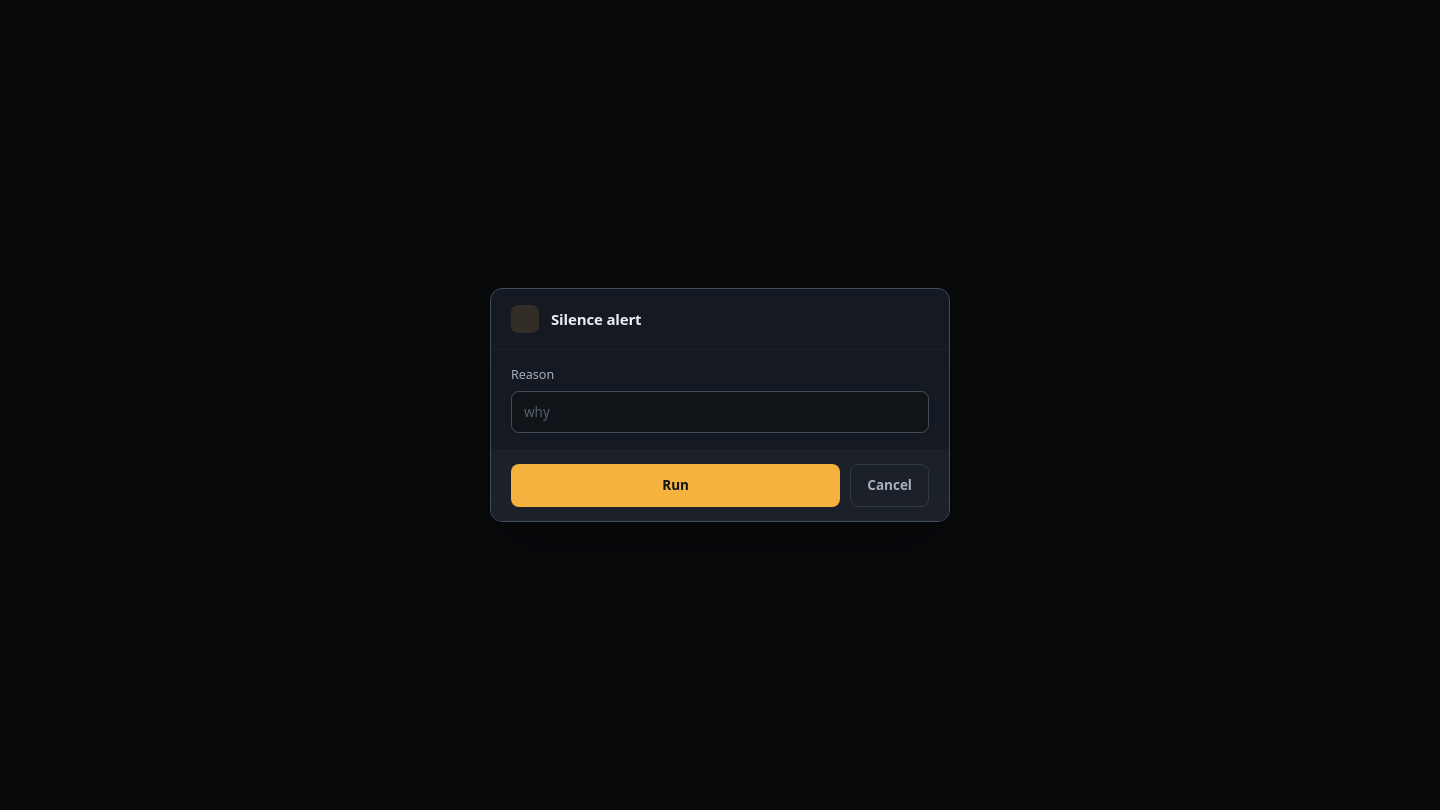
Test: ActionInputsDialog › keeps the dialog open and names the missing required input
What coordinates should you click on to do the following:
click the button with test id "action-inputs-submit"
I would click on:
 (676, 486)
Its box is [511,464,840,507].
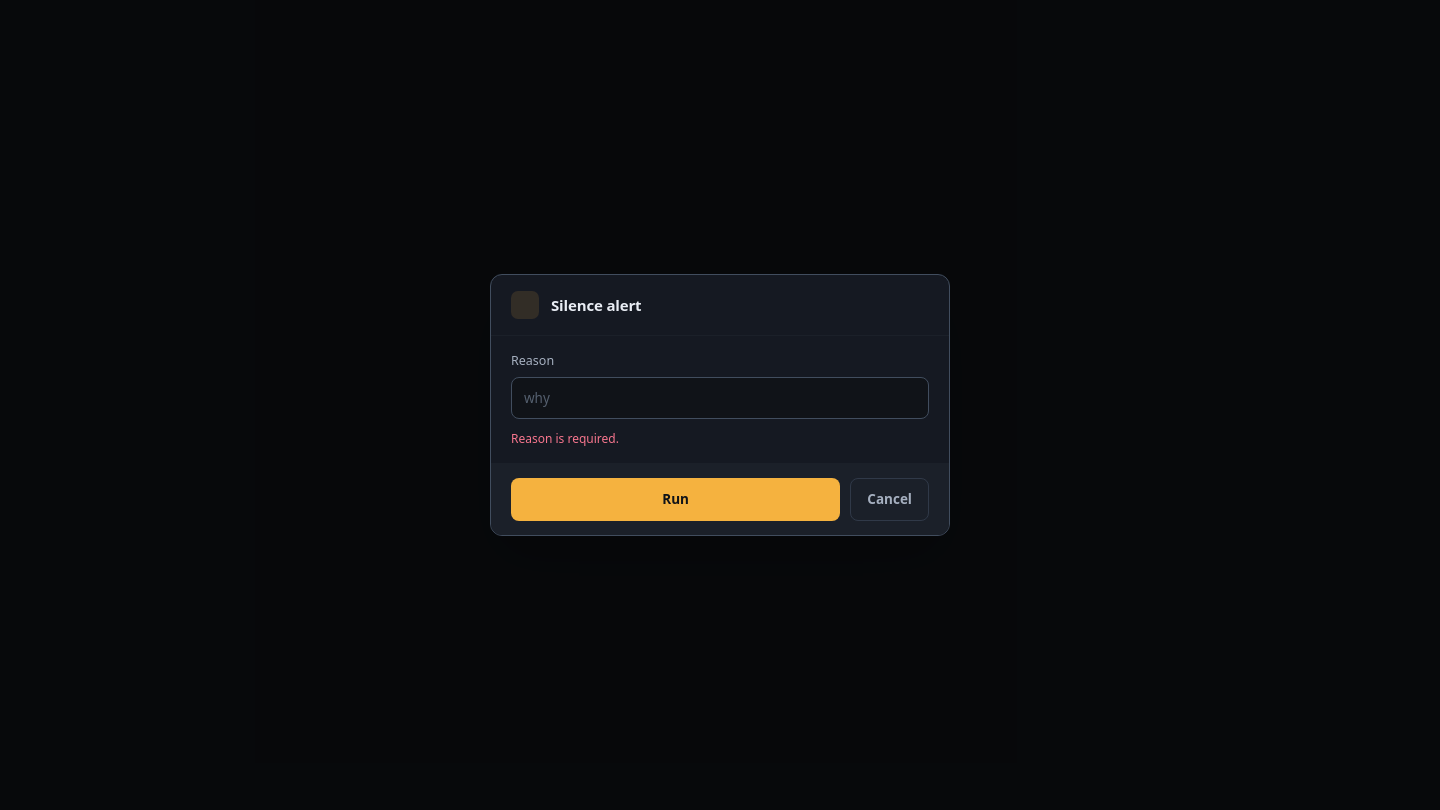
Now the text with test id "action-inputs-error" shows "Reason is required", box [511,430,619,447]
